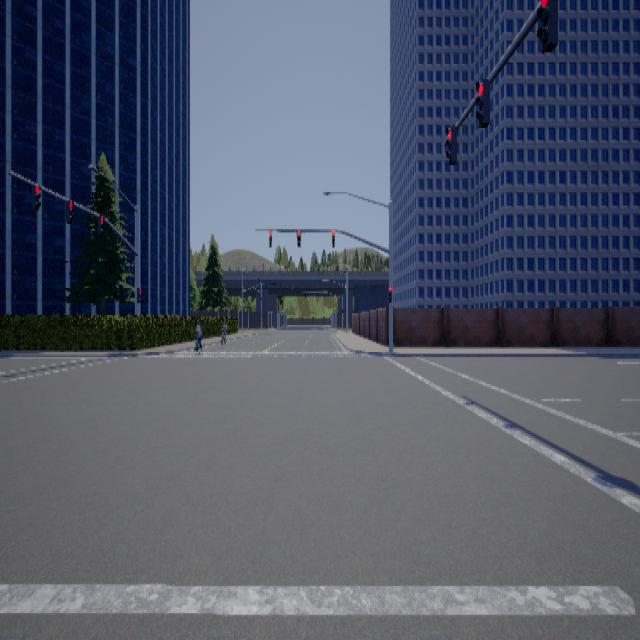bike: (192, 320, 203, 355), (217, 318, 229, 349)
red_light: (536, 0, 557, 52), (475, 77, 489, 126), (445, 125, 456, 163), (31, 183, 40, 209), (65, 199, 73, 222), (97, 214, 104, 234), (387, 284, 391, 302), (296, 229, 300, 246), (331, 229, 334, 246), (268, 229, 271, 246)
